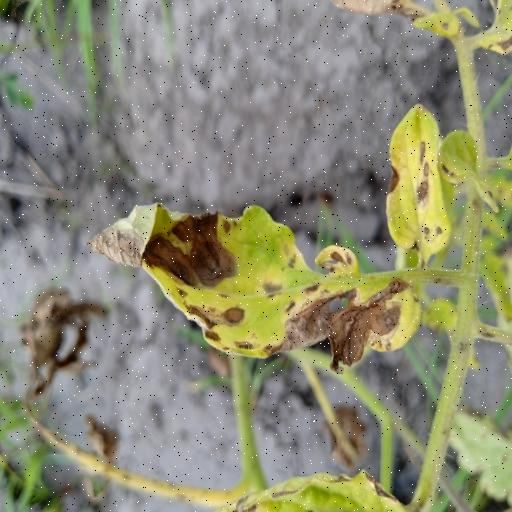Tomato_Brown_Spots: (92, 196, 420, 374), (388, 96, 452, 262)
